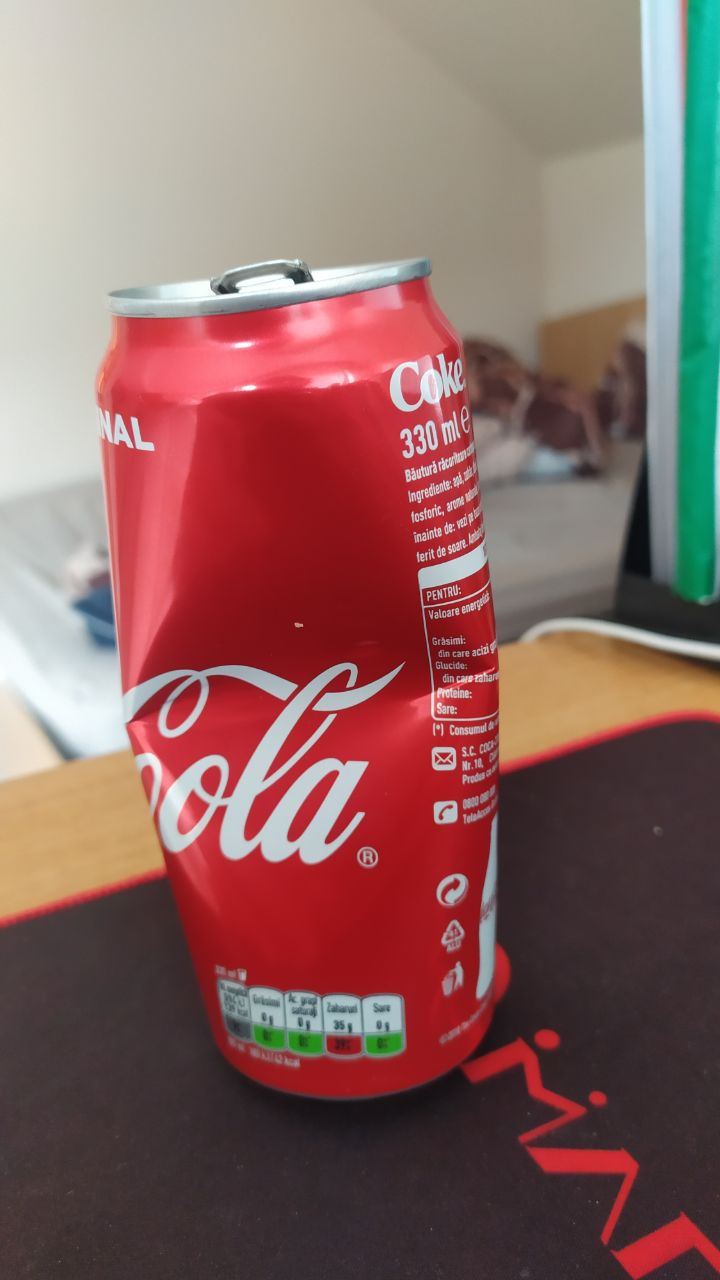Can: (92, 253, 507, 1105)
